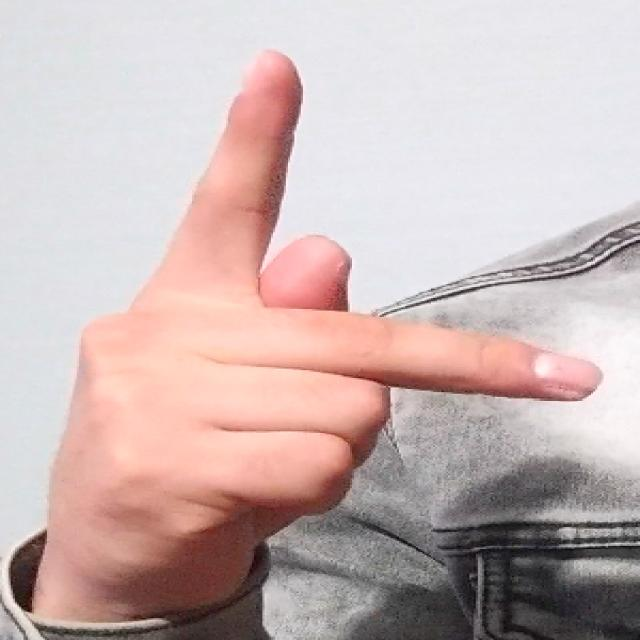P: (31, 39, 614, 595)
